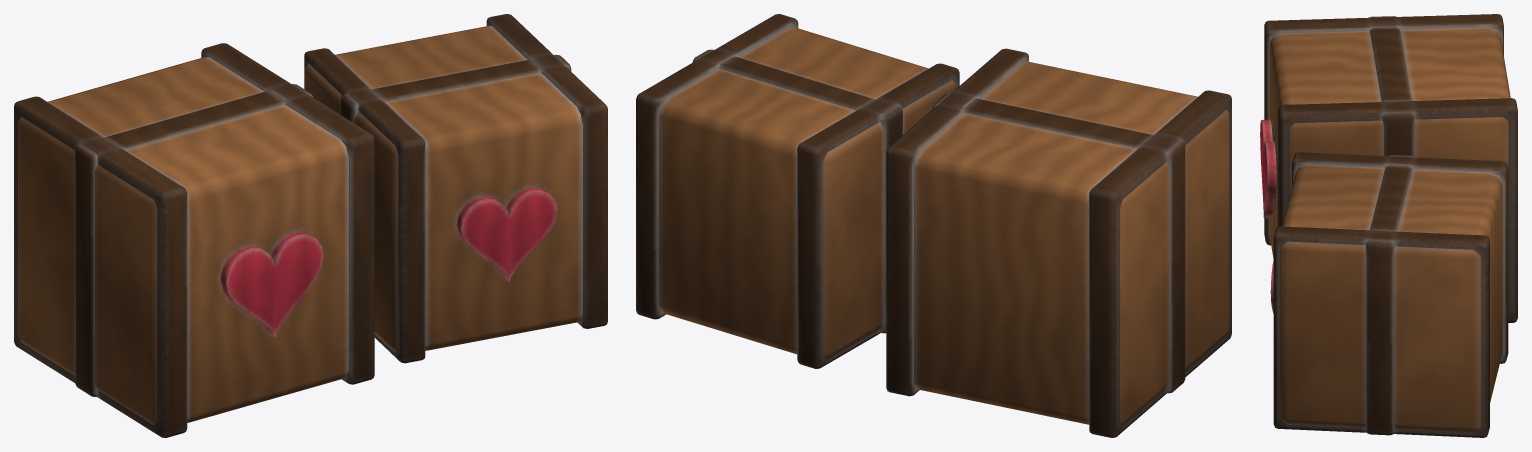
Rendered from rr_obstacle_crate.fbx.
The picture shows the model from 3 angles, left to right: view 1: azimuth 30°, elevation 25°; view 2: azimuth 150°, elevation 25°; view 3: azimuth 270°, elevation 25°; orthographic projection. The views are drawn at different scales.
Parts seen in each view (by area): view 1: rr_obstacle_crate; view 2: rr_obstacle_crate; view 3: rr_obstacle_crate.
Boxes of the visible parts, x1,y1,x2,y2 form: rr_obstacle_crate: [14, 14, 607, 437]; rr_obstacle_crate: [636, 14, 1231, 437]; rr_obstacle_crate: [1260, 14, 1517, 437].
Bounding box in the file's own units: 2.17 × 1.03 × 1.11.
3 materials, 3 textured.
